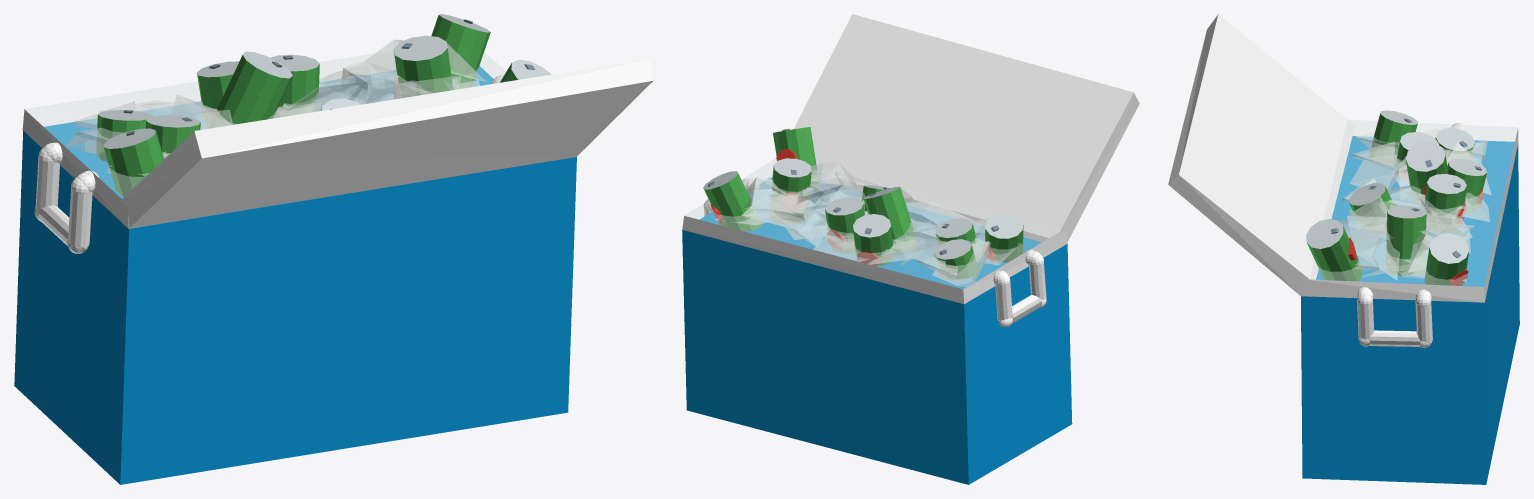
The model's file is can_cooler_2.glb.
The picture shows the model from 3 angles, left to right: view 1: azimuth 30°, elevation 25°; view 2: azimuth 150°, elevation 25°; view 3: azimuth 270°, elevation 25°; orthographic projection. The views are drawn at different scales.
Visible parts, largest first — view 1: group1410695581, group2122718482, group228052646, group1863821907, group1847893338, group1716336206, group2106093180, group513927594, group1306447254, group699203081, group1810612264, group1112212794 (+11 smaller); view 2: group1410695581, group2122718482, group228052646, group2106093180, group513927594, group2046907412, group1863821907, group1716336206, group155916710, group1810612264, group1847893338, group1306447254 (+17 smaller); view 3: group1410695581, group2122718482, group228052646, group699203081, group1385866266, group1847893338, group2106093180, group1306447254, group1863821907, group513927594, group1716336206, group173307192 (+15 smaller).
Boxes of the visible parts, box(x1,y1,x2,y2) form: group1410695581: box(14, 66, 576, 484); group2122718482: box(120, 59, 653, 228); group228052646: box(22, 52, 506, 228); group1863821907: box(216, 51, 292, 124); group1847893338: box(393, 35, 452, 97); group1716336206: box(103, 128, 163, 196); group2106093180: box(431, 14, 490, 88); group513927594: box(283, 39, 486, 112); group1306447254: box(270, 54, 319, 111); group699203081: box(366, 74, 460, 103); group1810612264: box(96, 110, 152, 162); group1112212794: box(145, 115, 200, 156); group1410695581: box(682, 177, 1072, 484); group2122718482: box(794, 14, 1139, 242); group228052646: box(682, 158, 1067, 303); group2106093180: box(703, 171, 762, 231); group513927594: box(743, 177, 827, 225); group2046907412: box(741, 190, 823, 246); group1863821907: box(863, 186, 914, 254); group1716336206: box(985, 213, 1023, 262); group155916710: box(853, 214, 893, 265); group1810612264: box(934, 239, 978, 279); group1847893338: box(771, 158, 811, 221); group1306447254: box(825, 197, 864, 253); group1410695581: box(1301, 136, 1519, 484); group2122718482: box(1168, 14, 1354, 295); group228052646: box(1300, 120, 1518, 302); group699203081: box(1347, 195, 1399, 280); group1385866266: box(1306, 219, 1362, 281); group1847893338: box(1386, 206, 1426, 275); group2106093180: box(1424, 233, 1469, 285); group1306447254: box(1424, 174, 1466, 223); group1863821907: box(1405, 141, 1447, 203); group513927594: box(1408, 200, 1468, 272); group1716336206: box(1369, 110, 1417, 162); group173307192: box(1349, 183, 1393, 217).
Bounding box in the file's own units: 0.4921 × 0.4292 × 0.439.
